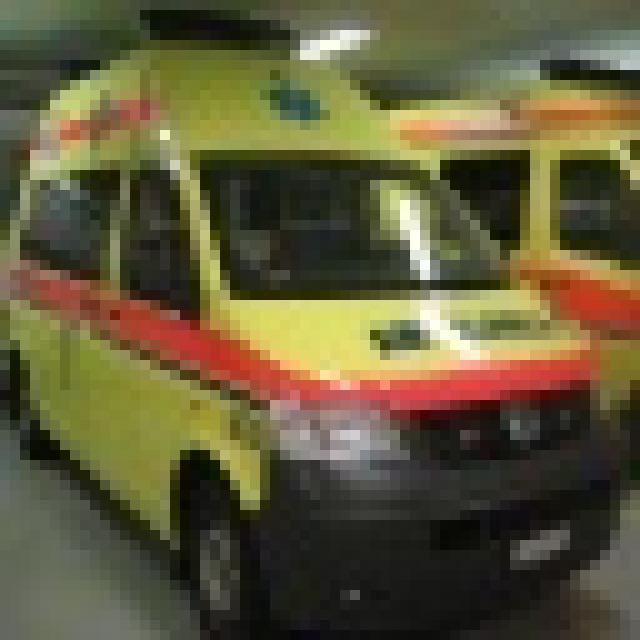Ambulance: (0, 10, 620, 630)
